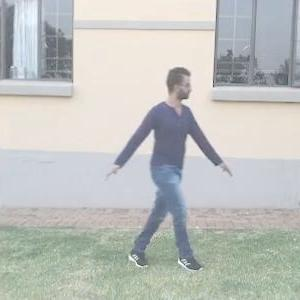land: (109, 77, 231, 238)
